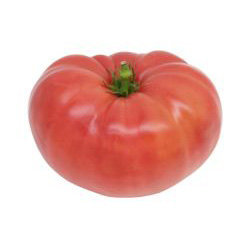tomato: (29, 54, 222, 196)
